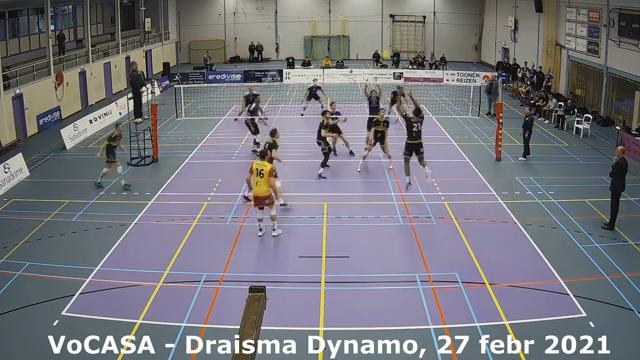Block: (391, 87, 436, 194)
Player: (246, 150, 281, 235), (357, 109, 392, 171), (94, 123, 123, 187), (330, 101, 354, 155), (363, 83, 381, 145), (245, 96, 264, 152), (316, 110, 331, 178), (301, 79, 326, 115), (234, 86, 258, 120), (263, 128, 281, 165), (389, 86, 405, 112)
ball: (381, 51, 390, 59)
